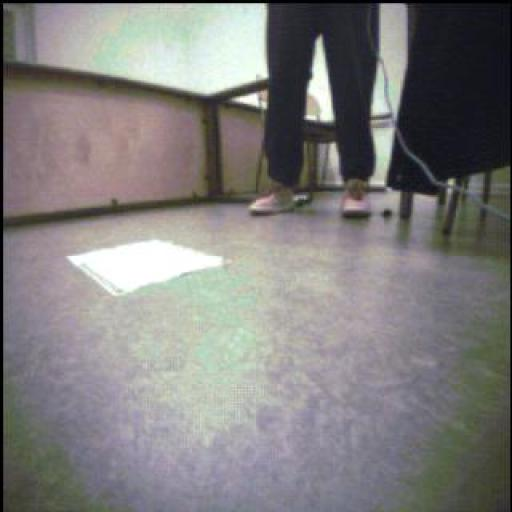Pad: (68, 241, 225, 297)
